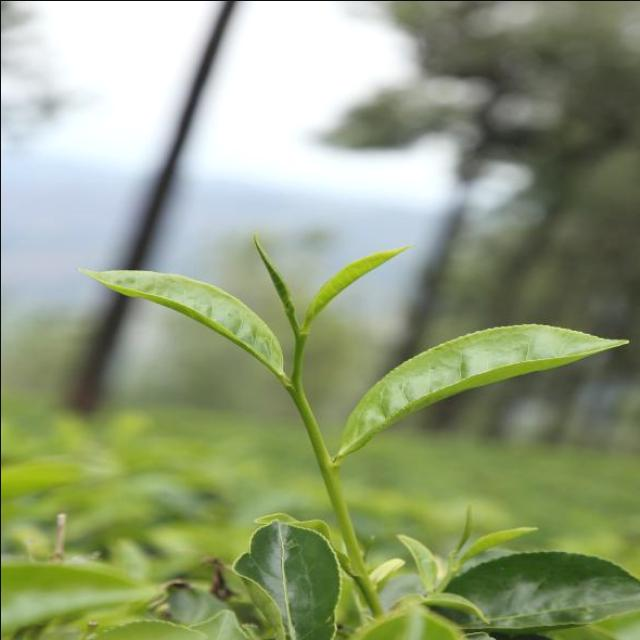Stem: (288, 383, 315, 426)
